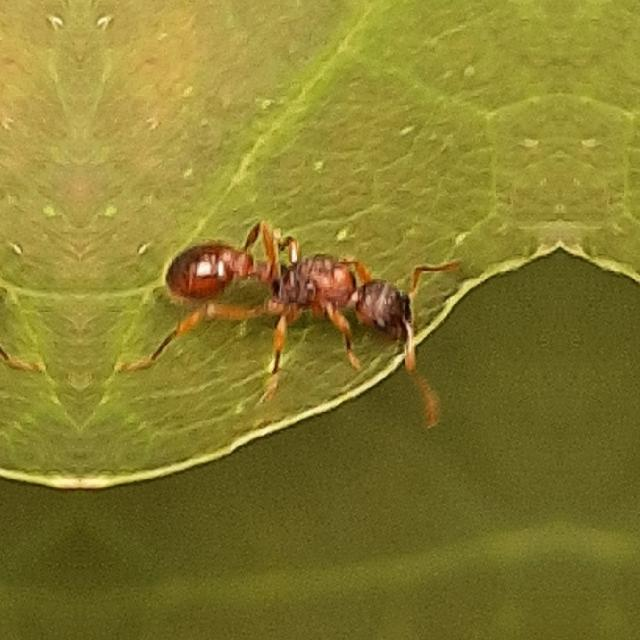Myrmica: (173, 184, 445, 410)
